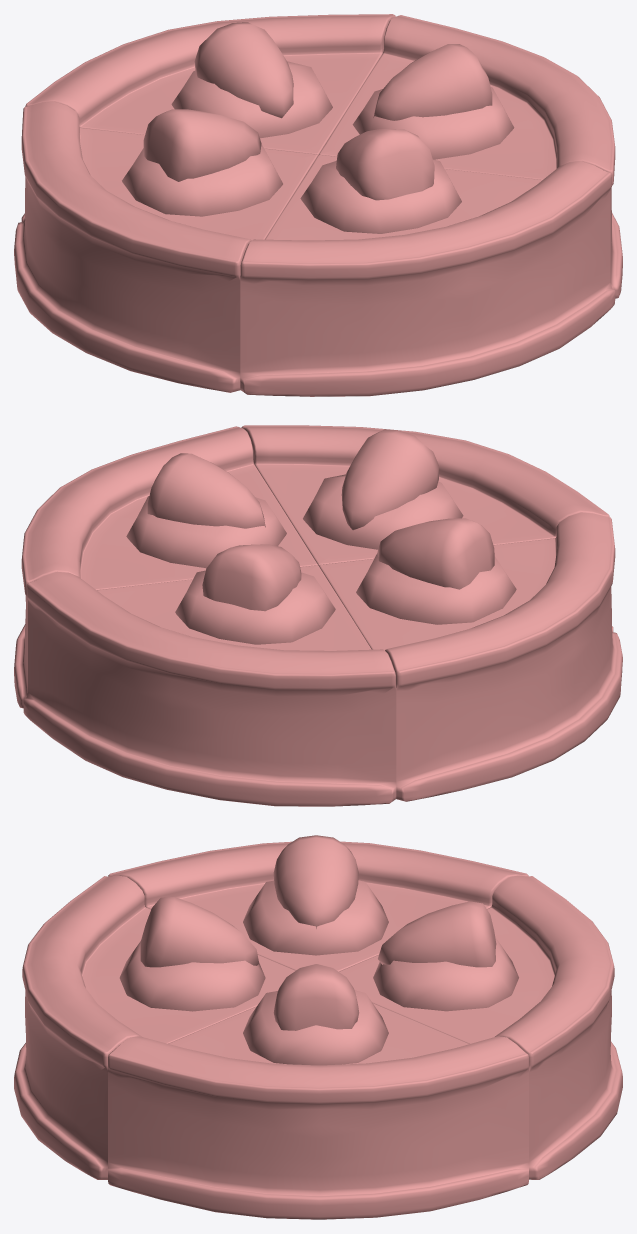
File: cake_grp.fbx
The picture shows the model from 3 angles, top to bottom: view 1: azimuth 30°, elevation 25°; view 2: azimuth 150°, elevation 25°; view 3: azimuth 270°, elevation 25°; orthographic projection.
Visible parts, largest first — view 1: pCylinder11, pCylinder8, pCylinder10, pCylinder9, pCube2, pCube7, pCube10, pCube9, pCube5, pCube11, pCube8, pCube6; view 2: pCylinder10, pCylinder8, pCylinder9, pCylinder11, pCube11, pCube2, pCube8, pCube9, pCube5, pCube6, pCube10, pCube7; view 3: pCylinder9, pCylinder10, pCylinder11, pCylinder8, pCube2, pCube8, pCube6, pCube7, pCube5, pCube11, pCube10, pCube9.
Boxes of the visible parts, x1,y1,x2,y2 form: pCylinder11: (240, 154, 615, 396); pCylinder8: (14, 101, 317, 392); pCylinder10: (21, 14, 395, 221); pCylinder9: (319, 15, 622, 298); pCube2: (122, 144, 282, 216); pCube7: (300, 159, 461, 233); pCube10: (194, 22, 293, 118); pCube9: (373, 44, 492, 120); pCube5: (143, 109, 261, 181); pCube11: (336, 129, 434, 200); pCube8: (171, 61, 332, 138); pCube6: (352, 87, 514, 159); pCylinder10: (23, 565, 396, 806); pCylinder8: (319, 512, 622, 801); pCylinder9: (14, 426, 317, 708); pCylinder11: (241, 425, 613, 631); pCube11: (341, 429, 438, 530); pCube2: (356, 553, 516, 624); pCube8: (175, 570, 335, 644); pCube9: (147, 453, 265, 528); pCube5: (377, 518, 494, 589); pCube6: (126, 496, 286, 568); pCube10: (202, 544, 301, 611); pCube7: (303, 474, 463, 549); pCylinder9: (108, 1003, 528, 1219); pCylinder10: (339, 875, 622, 1179); pCylinder11: (14, 875, 295, 1179); pCylinder8: (108, 841, 528, 971); pCube2: (243, 880, 388, 955); pCube8: (373, 937, 518, 1011); pCube6: (243, 990, 388, 1065); pCube7: (119, 941, 265, 1011); pCube5: (273, 835, 358, 928); pCube11: (140, 897, 259, 967); pCube10: (378, 901, 496, 967); pCube9: (273, 964, 359, 1030).
Bounding box in the file's own units: 10.48 × 3.63 × 10.48.
